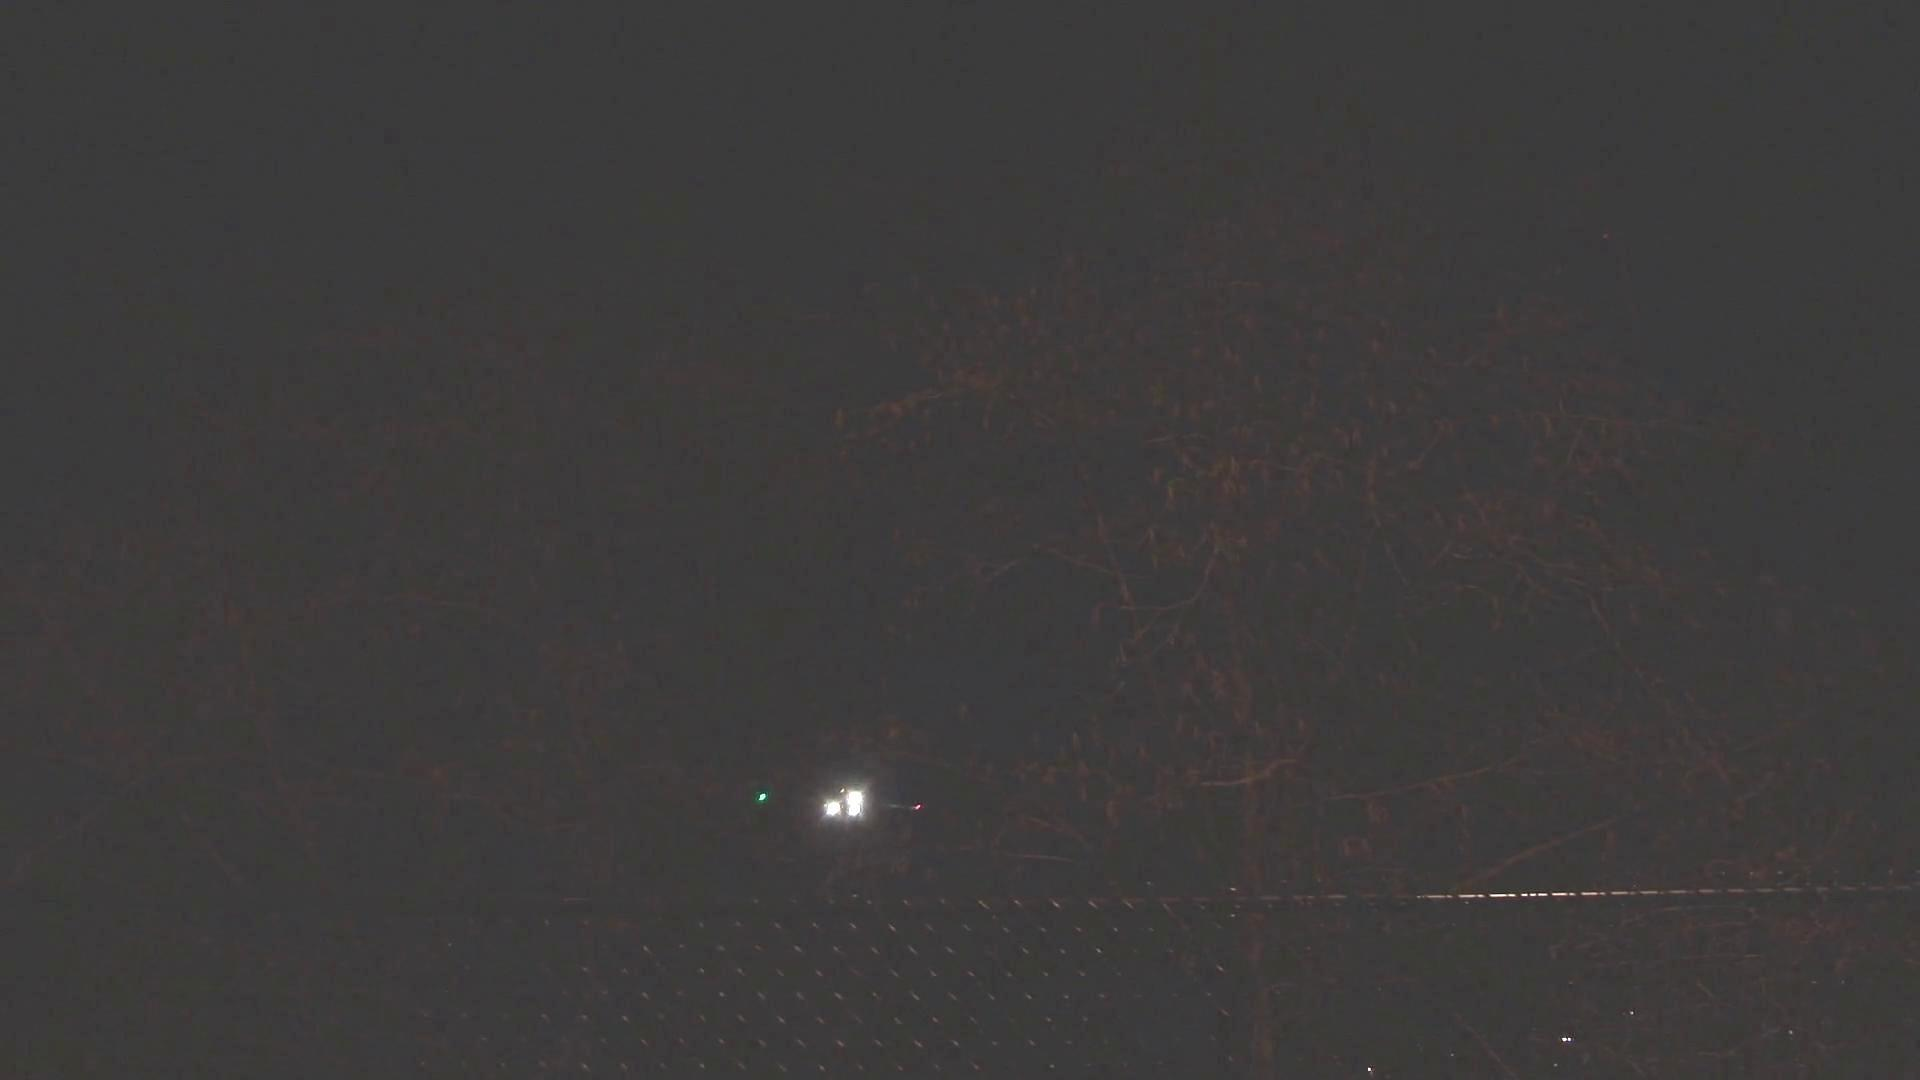Plane: (717, 771, 960, 833)
